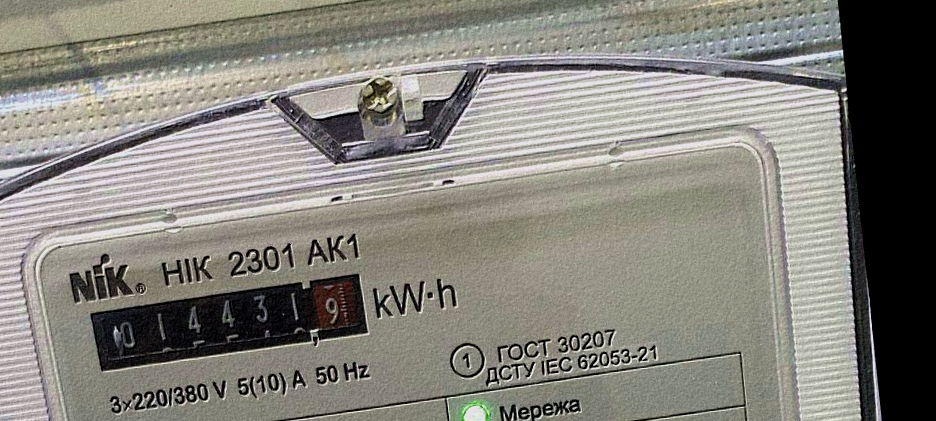0: (117, 317, 140, 352)
1: (152, 308, 173, 343), (288, 289, 304, 323)
3: (251, 293, 273, 326)
4: (182, 302, 207, 337), (217, 295, 238, 331)
9: (322, 293, 342, 326)
screen: (81, 265, 383, 381)
